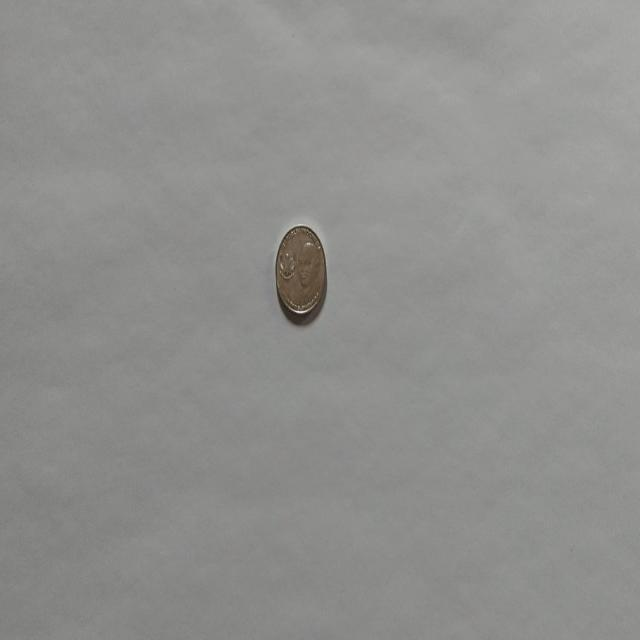lima ratus rupiah: (274, 222, 328, 322)
